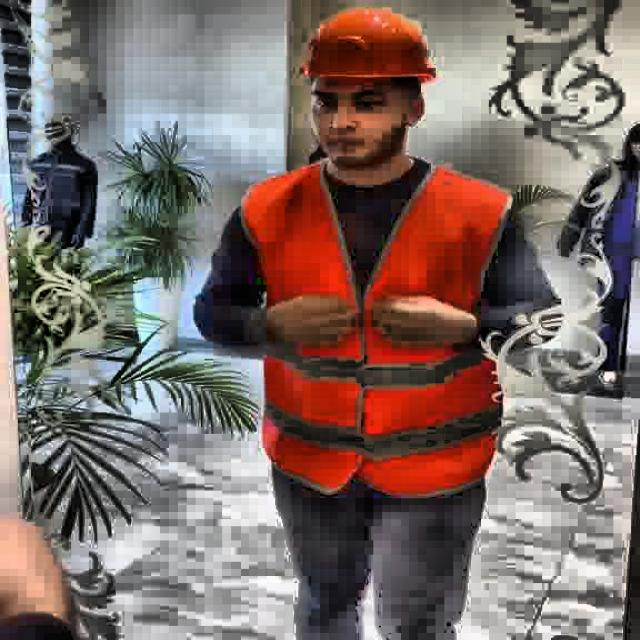safety_helmet: (297, 7, 435, 83)
safety_jacket: (240, 158, 518, 505)
